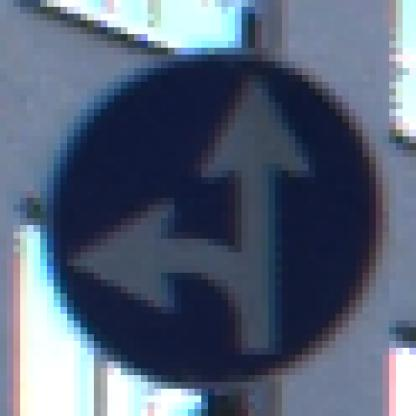Straight or Left: (42, 42, 384, 383)
